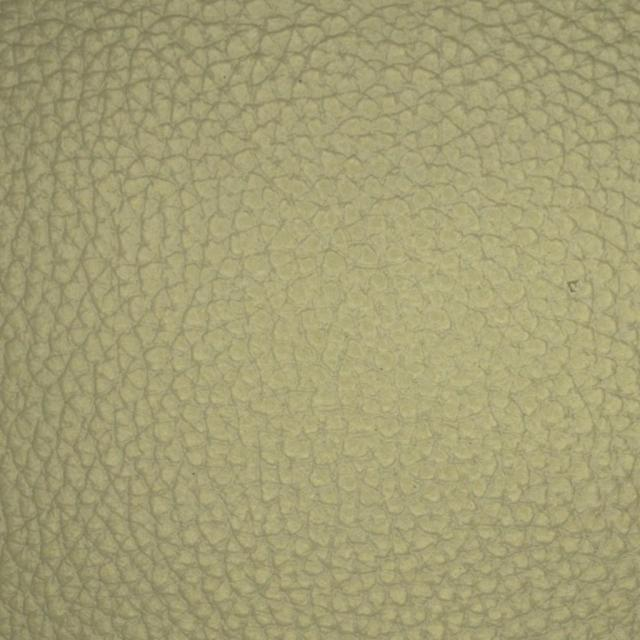pinhole: (454, 229, 608, 350)
